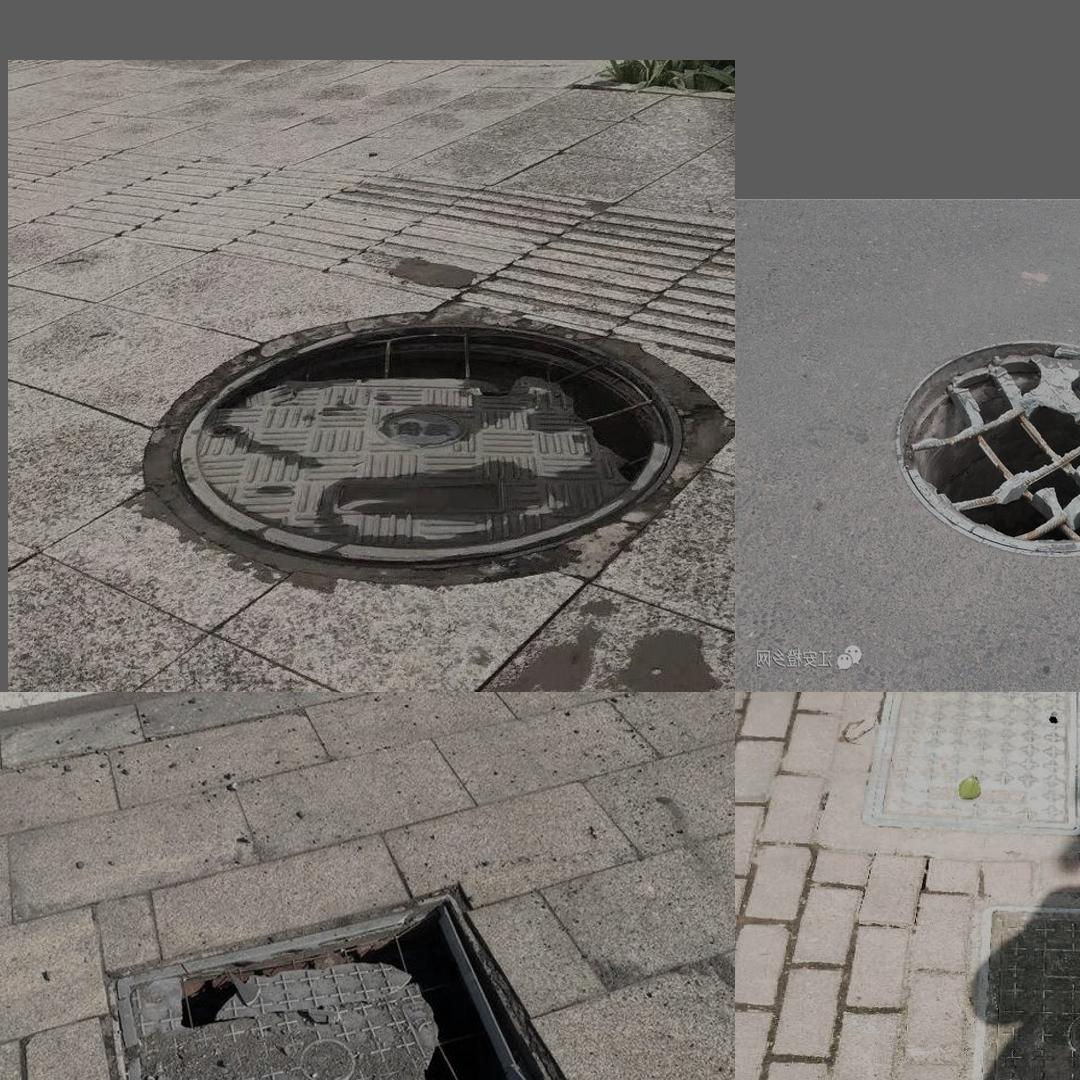broke: (173, 319, 684, 569), (113, 873, 600, 1080), (894, 322, 1080, 566), (970, 907, 1080, 1080)
